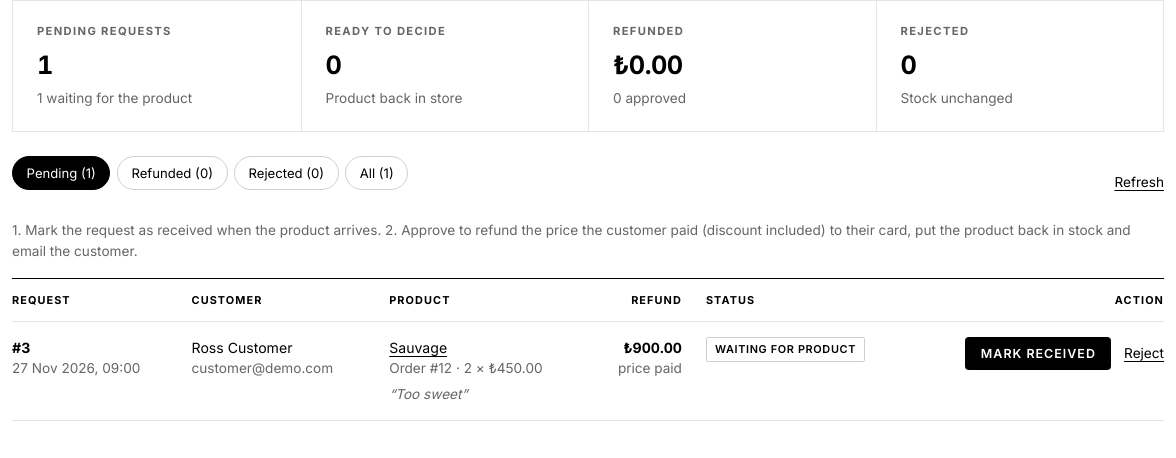
Test: sales manager refund tab › marks received, then approves after confirmation
The width and height of the screenshot is (1176, 458).
Click the button "Mark received". click: (1038, 353)
box: x1=965 y1=337 x2=1111 y2=370
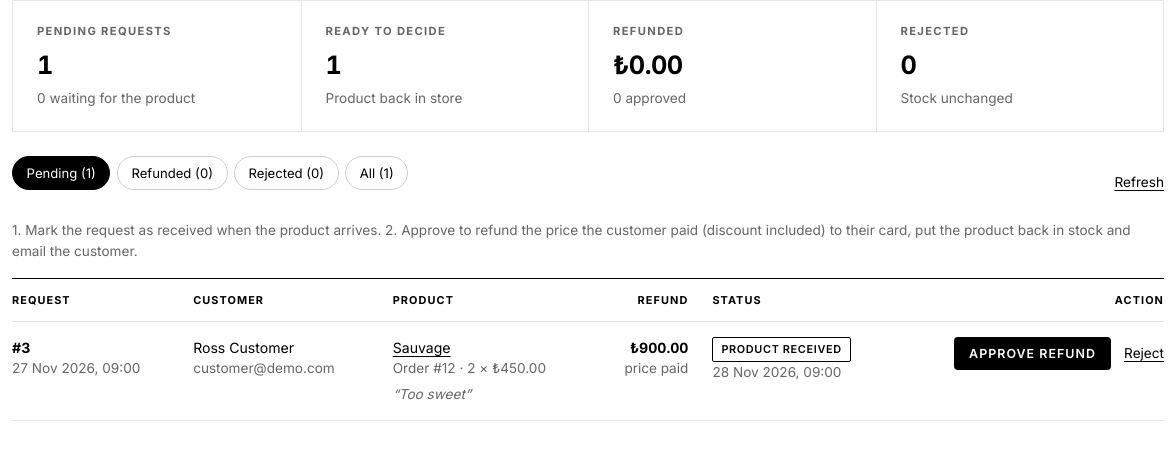
Click the button "Approve refund". click: (1032, 353)
box: x1=954 y1=337 x2=1111 y2=370
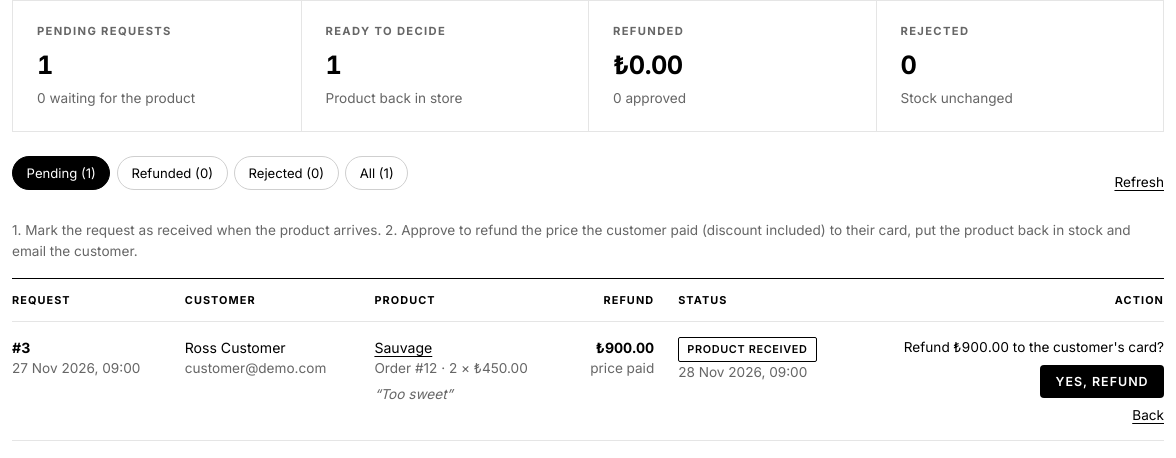
Click the button "Yes, refund". click: (1102, 381)
box: x1=1040 y1=365 x2=1164 y2=398
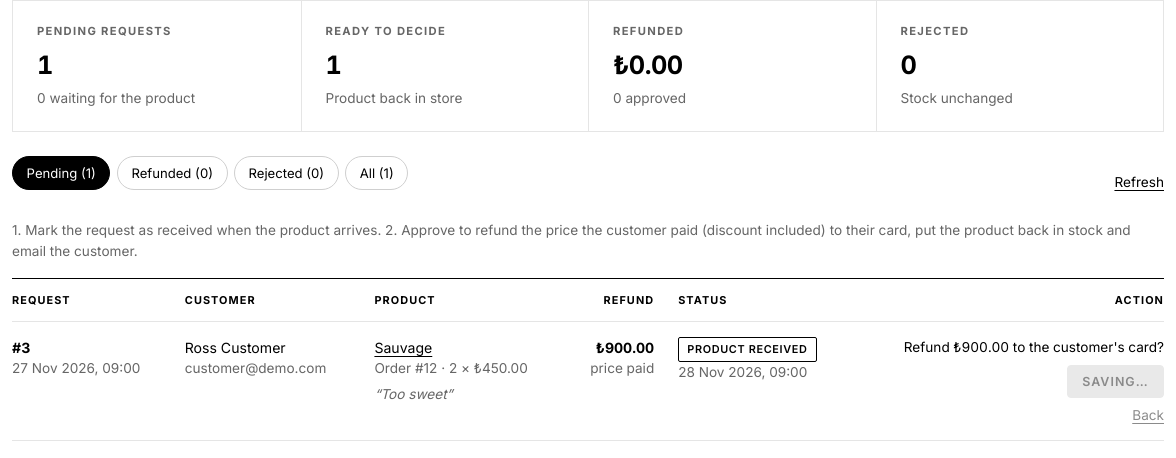
Click the tab "Refunded (0)". click: (172, 173)
box: x1=117 y1=156 x2=228 y2=190
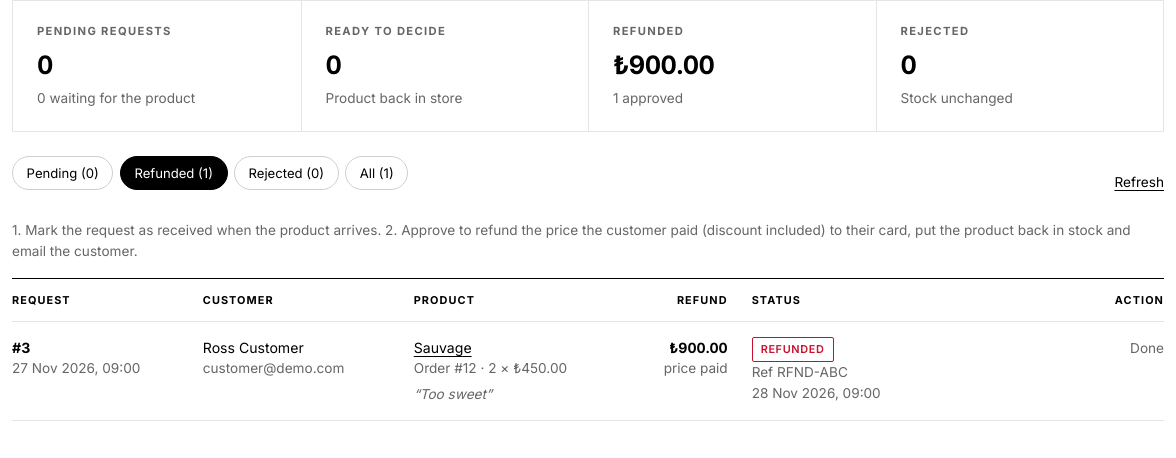
Expected: the text "Ref RFND-ABC" is shown, x1=752 y1=364 x2=848 y2=380
